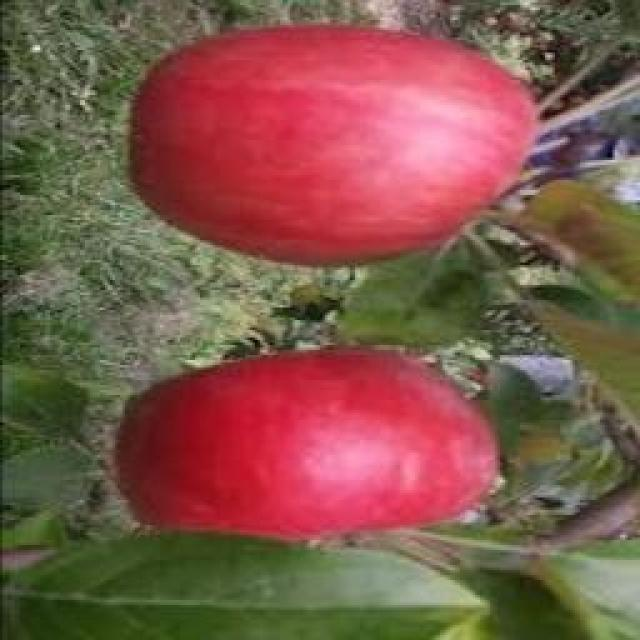Apple: (131, 25, 536, 264), (115, 348, 498, 538)
